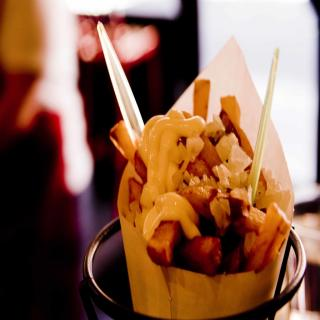French fries: (132, 124, 282, 286)
